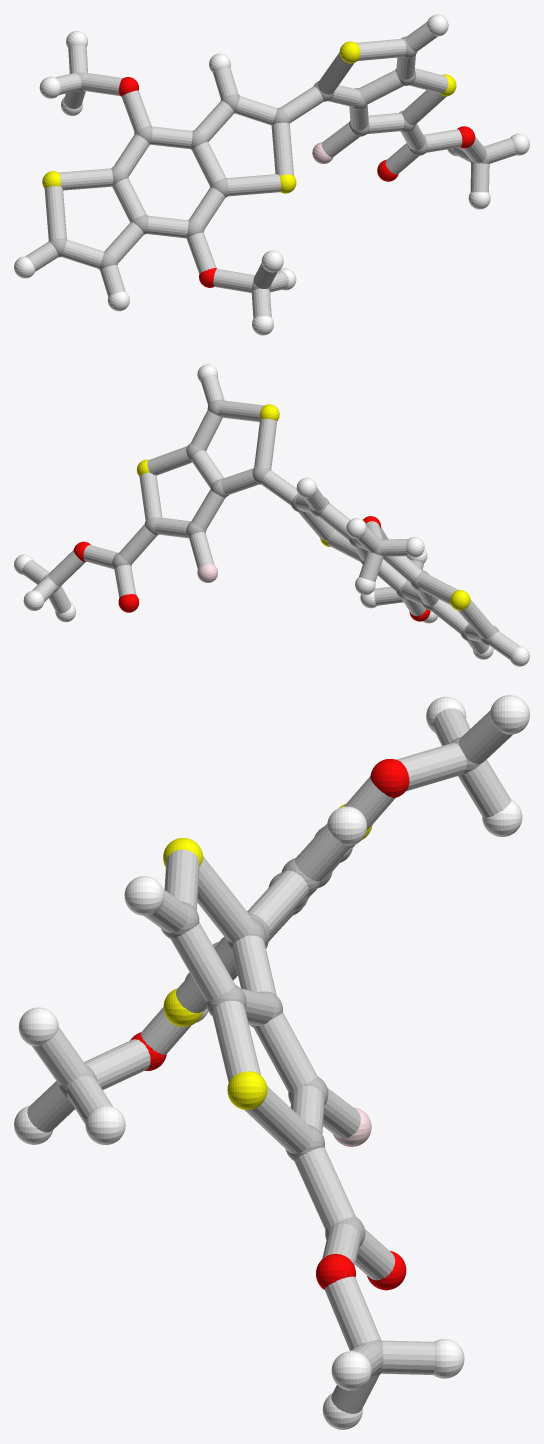
The model's file is color.glb.
3 views of the same model, one above another, from view 1: azimuth 30°, elevation 25°; view 2: azimuth 150°, elevation 25°; view 3: azimuth 270°, elevation 25° (orthographic). The views are drawn at different scales.
Parts seen in each view (by area): view 1: grp15205, grp8689, grp1, grp7241, grp13395; view 2: grp15205, grp8689, grp1, grp7241, grp13395; view 3: grp15205, grp8689, grp1, grp13395, grp7241.
Boxes of the visible parts, left/top/right/bottom form: grp15205: left=25, top=22, right=516, bottom=318; grp8689: left=14, top=14, right=529, bottom=335; grp1: left=48, top=36, right=489, bottom=290; grp7241: left=42, top=41, right=456, bottom=193; grp13395: left=119, top=77, right=475, bottom=287; grp15205: left=22, top=376, right=519, bottom=659; grp8689: left=14, top=364, right=529, bottom=666; grp1: left=42, top=399, right=498, bottom=645; grp7241: left=137, top=404, right=470, bottom=610; grp13395: left=73, top=516, right=430, bottom=621; grp15205: left=27, top=708, right=512, bottom=1413; grp8689: left=14, top=695, right=529, bottom=1429; grp1: left=58, top=737, right=481, bottom=1376; grp13395: left=130, top=759, right=409, bottom=1290; grp7241: left=163, top=804, right=372, bottom=1109.
Bounding box in the file's own units: 16.57 × 7.66 × 7.71.
